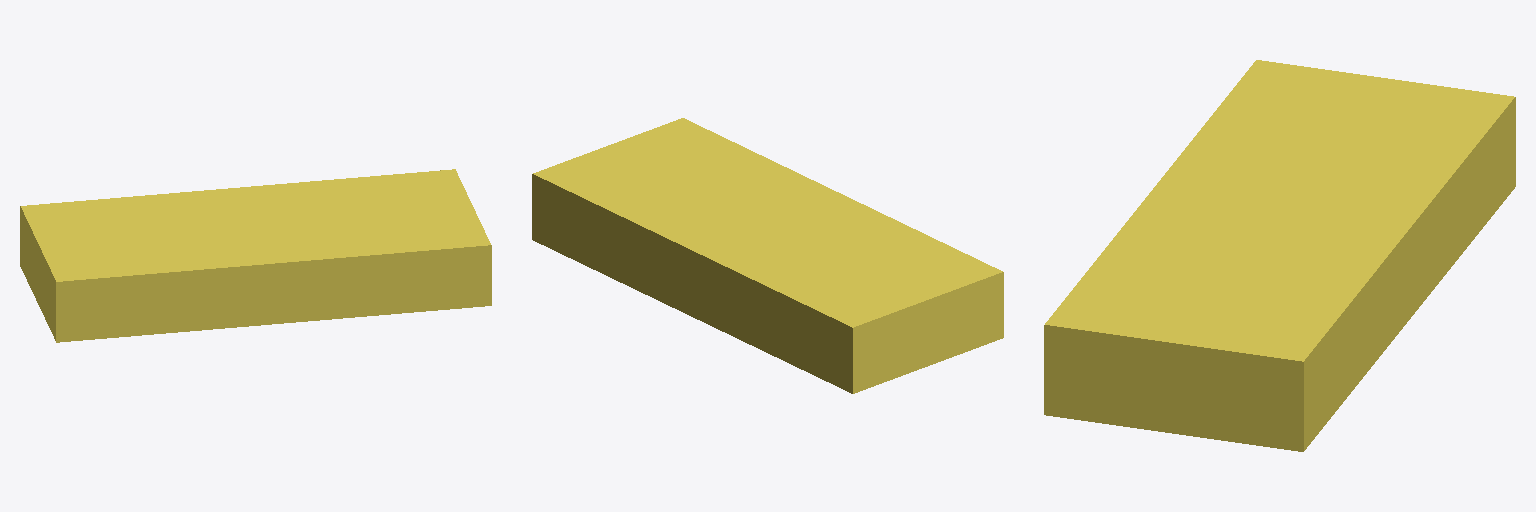
URDF robot description (Interference):
<?xml version="1.0"?>
<robot name="Interference">
  <link name="baseLink">
    <inertial>
      <origin xyz="0.0 0.0 0.0" rpy="0.0 0.0 0.0"/>
      <inertia ixx="0.0" ixy="0.0" ixz="0.0" iyy="0.0" iyz="0.0" izz="0.0"/>
      <mass value="0"/>
    </inertial>
    <visual>
      <origin xyz="0.0 0.0 0.0" rpy="0.0 0.0 1.2447761154675807"/>
      <geometry>
        <box size="0.027351050632754136 0.06618491366140178 0.01"/>
      </geometry>
      <material name="color">
        <color rgba="0.916278863456289 0.8486167197654729 0.382778818916385 1.0"/>
      </material>
    </visual>
  </link>
</robot>

--- Facts derived from the render (not from the file) ---
The picture shows the robot from 3 angles, left to right: view 1: azimuth 30°, elevation 25°; view 2: azimuth 150°, elevation 25°; view 3: azimuth 270°, elevation 25°; orthographic projection.
Robot: Interference — 1 links, 0 joints (none); root link baseLink; default pose: all joints at 0.
Visible links, largest first — view 1: baseLink; view 2: baseLink; view 3: baseLink.
Link boxes in pixels (x1=…): baseLink: x1=20, y1=169, x2=491, y2=342; baseLink: x1=532, y1=118, x2=1003, y2=393; baseLink: x1=1044, y1=60, x2=1515, y2=451.
Size in the robot's own frame: 0.0715 by 0.0471 by 0.01 metres.
Geometry: primitives only (box / cylinder / sphere), no mesh files.